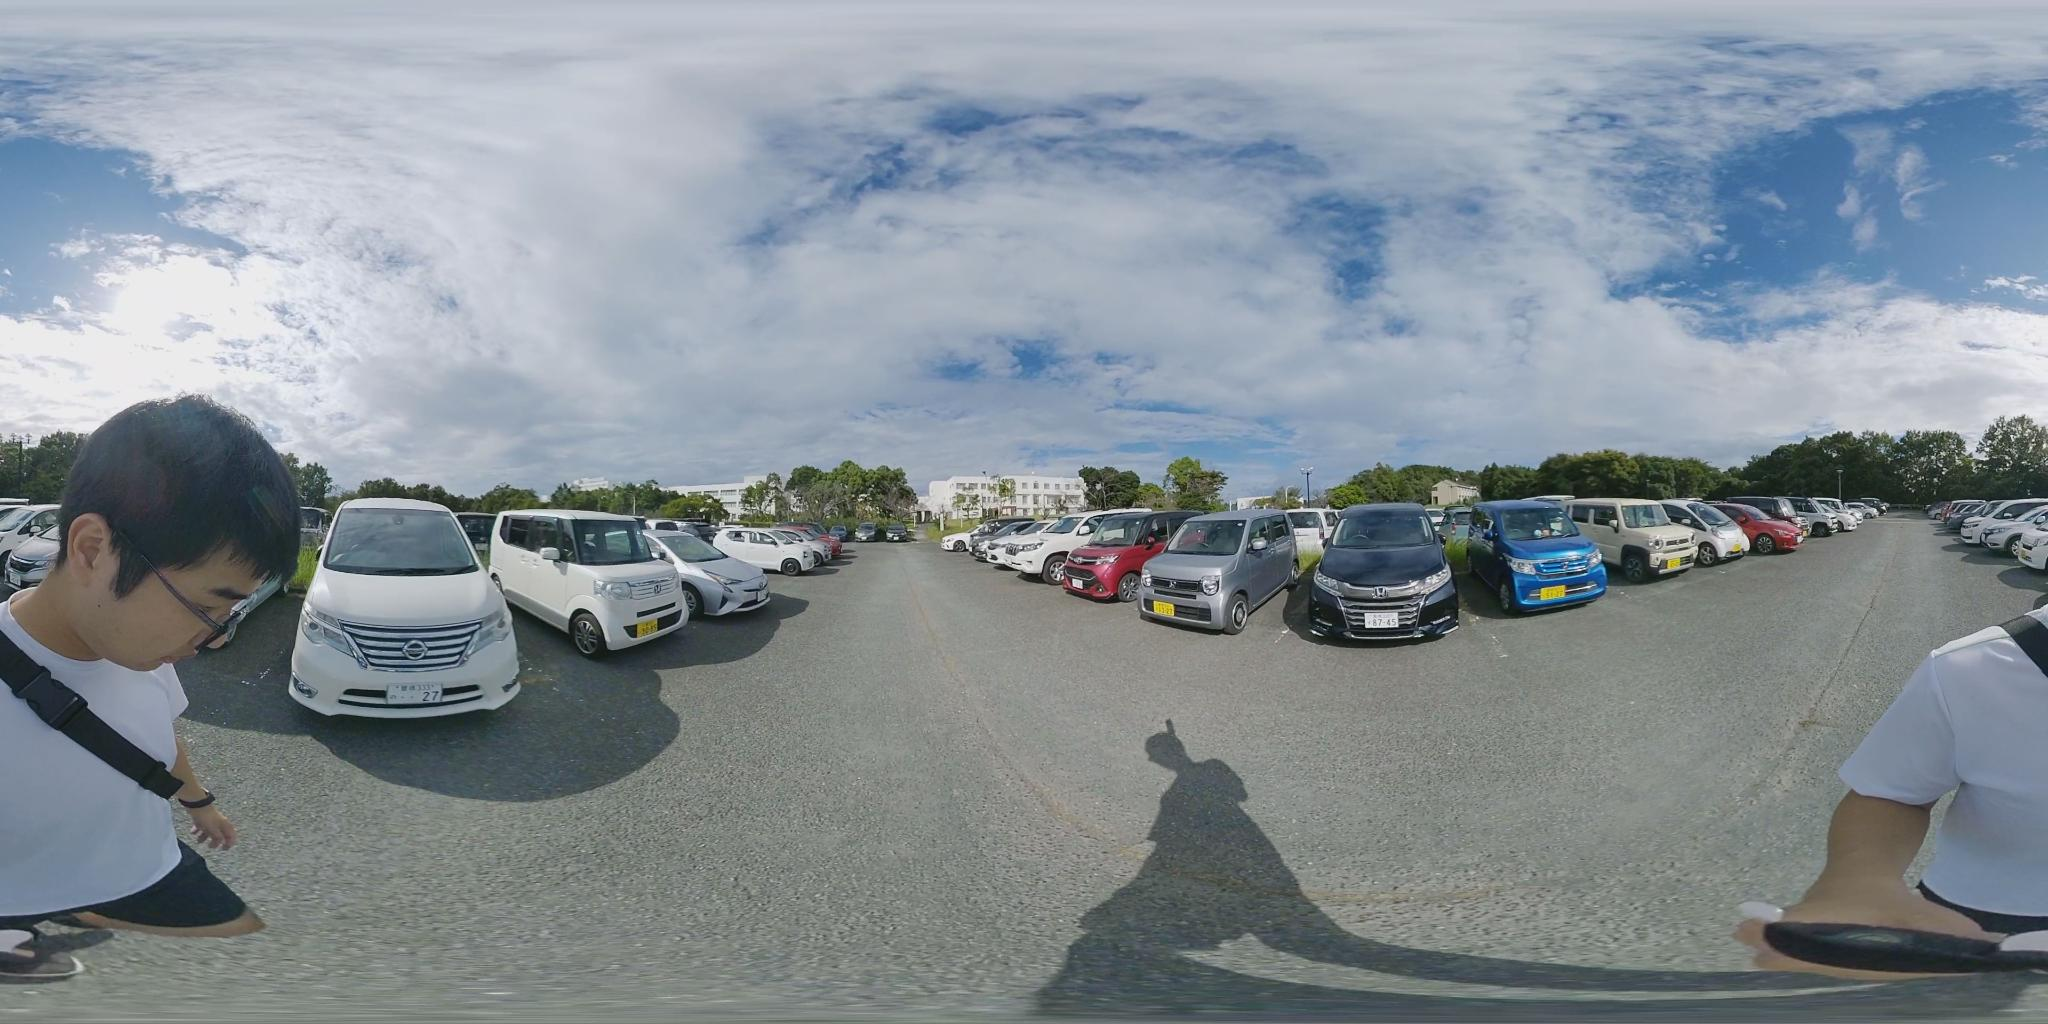car: (295, 496, 533, 714), (482, 513, 701, 653), (1294, 508, 1469, 647), (1130, 508, 1306, 636), (1465, 502, 1614, 613), (1546, 496, 1706, 577), (1044, 512, 1183, 594), (653, 530, 777, 618), (708, 525, 844, 575), (1708, 503, 1805, 555), (1959, 502, 2047, 558), (1796, 499, 1866, 532)
